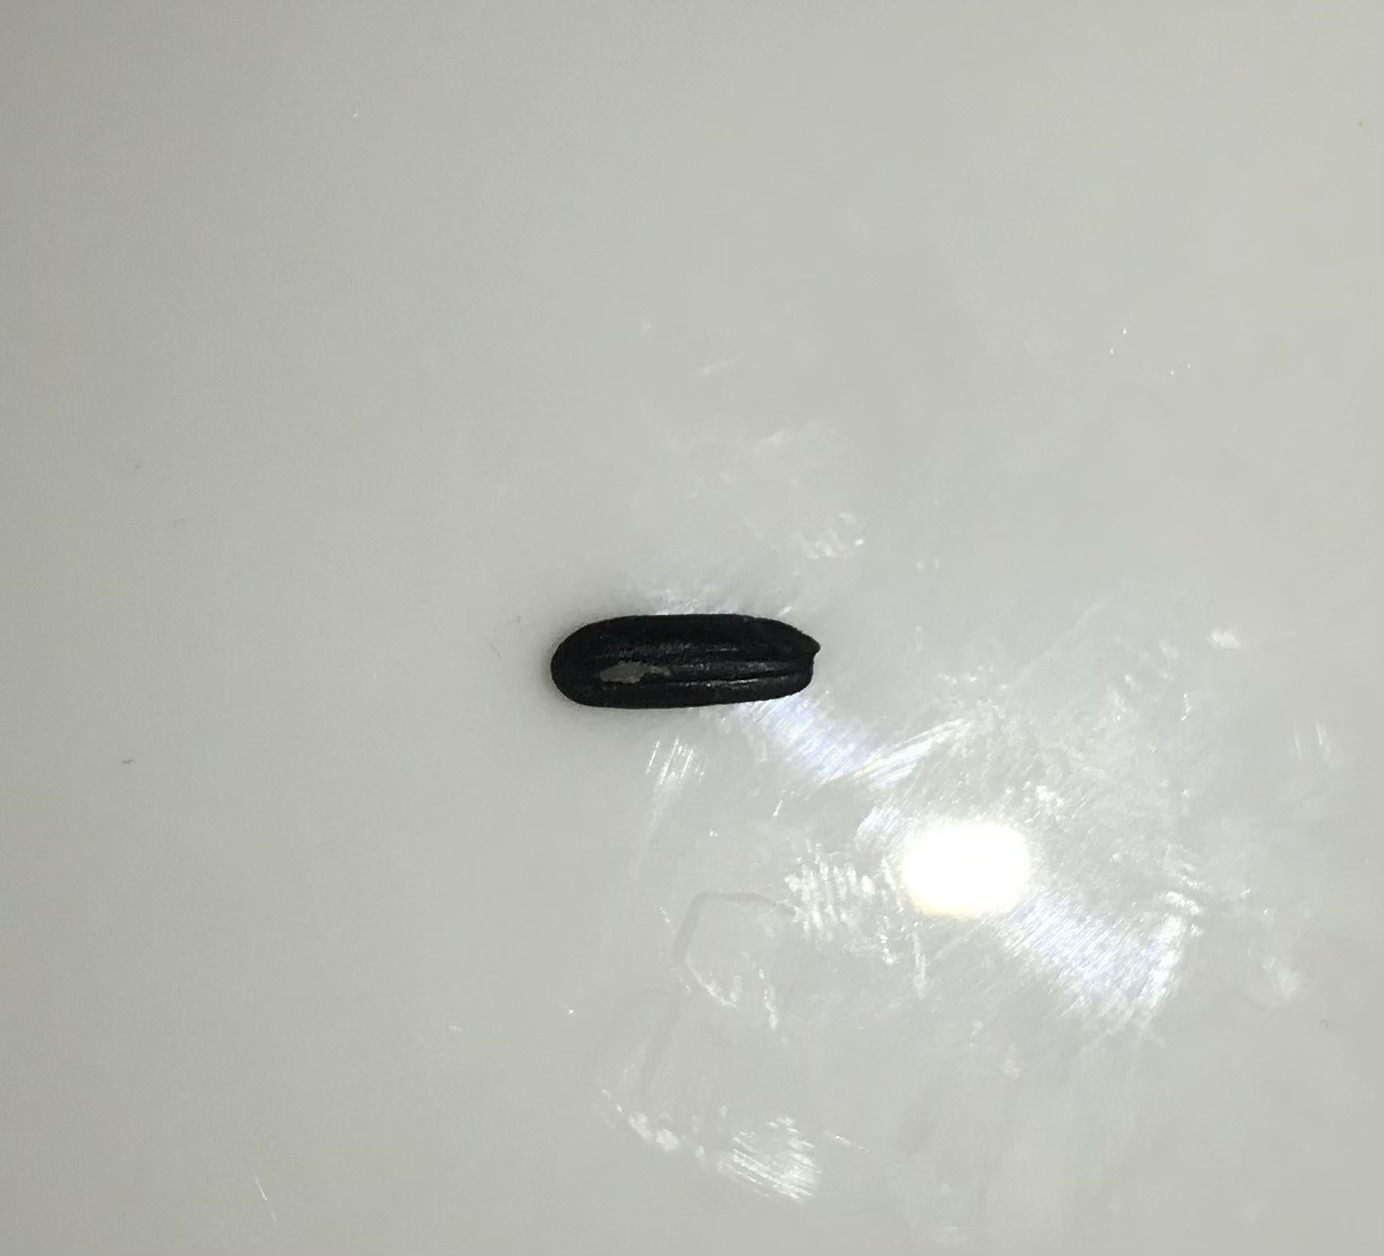Gao lut: (546, 612, 827, 714)
